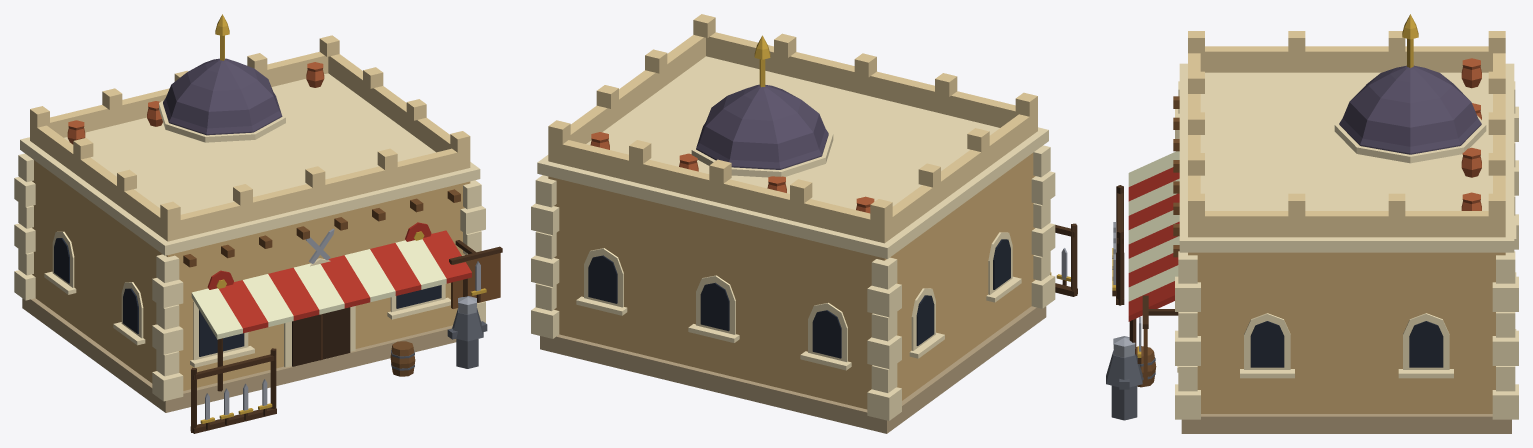
The model's file is shop_weapons.fbx.
The picture shows the model from 3 angles, left to right: view 1: azimuth 30°, elevation 25°; view 2: azimuth 150°, elevation 25°; view 3: azimuth 270°, elevation 25°; orthographic projection. The views are drawn at different scales.
Parts seen in each view (by area): view 1: shop_weapons; view 2: shop_weapons; view 3: shop_weapons.
Boxes of the visible parts, left/top/right/bottom form: shop_weapons: left=14, top=14, right=502, bottom=433; shop_weapons: left=531, top=14, right=1077, bottom=433; shop_weapons: left=1106, top=14, right=1518, bottom=433.
Size of the model in its own units: 10.21 by 8.65 by 9.74.
1 material, 1 textured.
